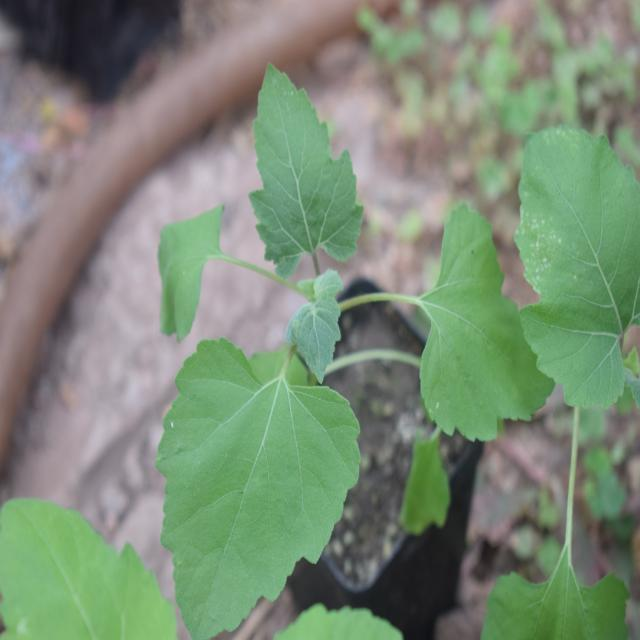cocklebur: (138, 89, 532, 612)
